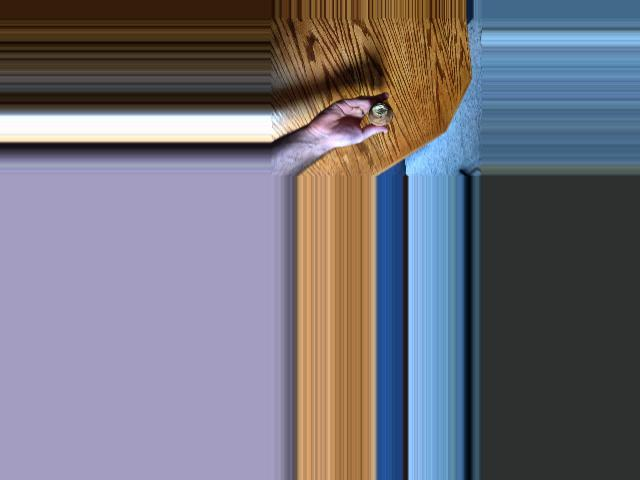sweet_potato: (371, 103, 393, 129)
